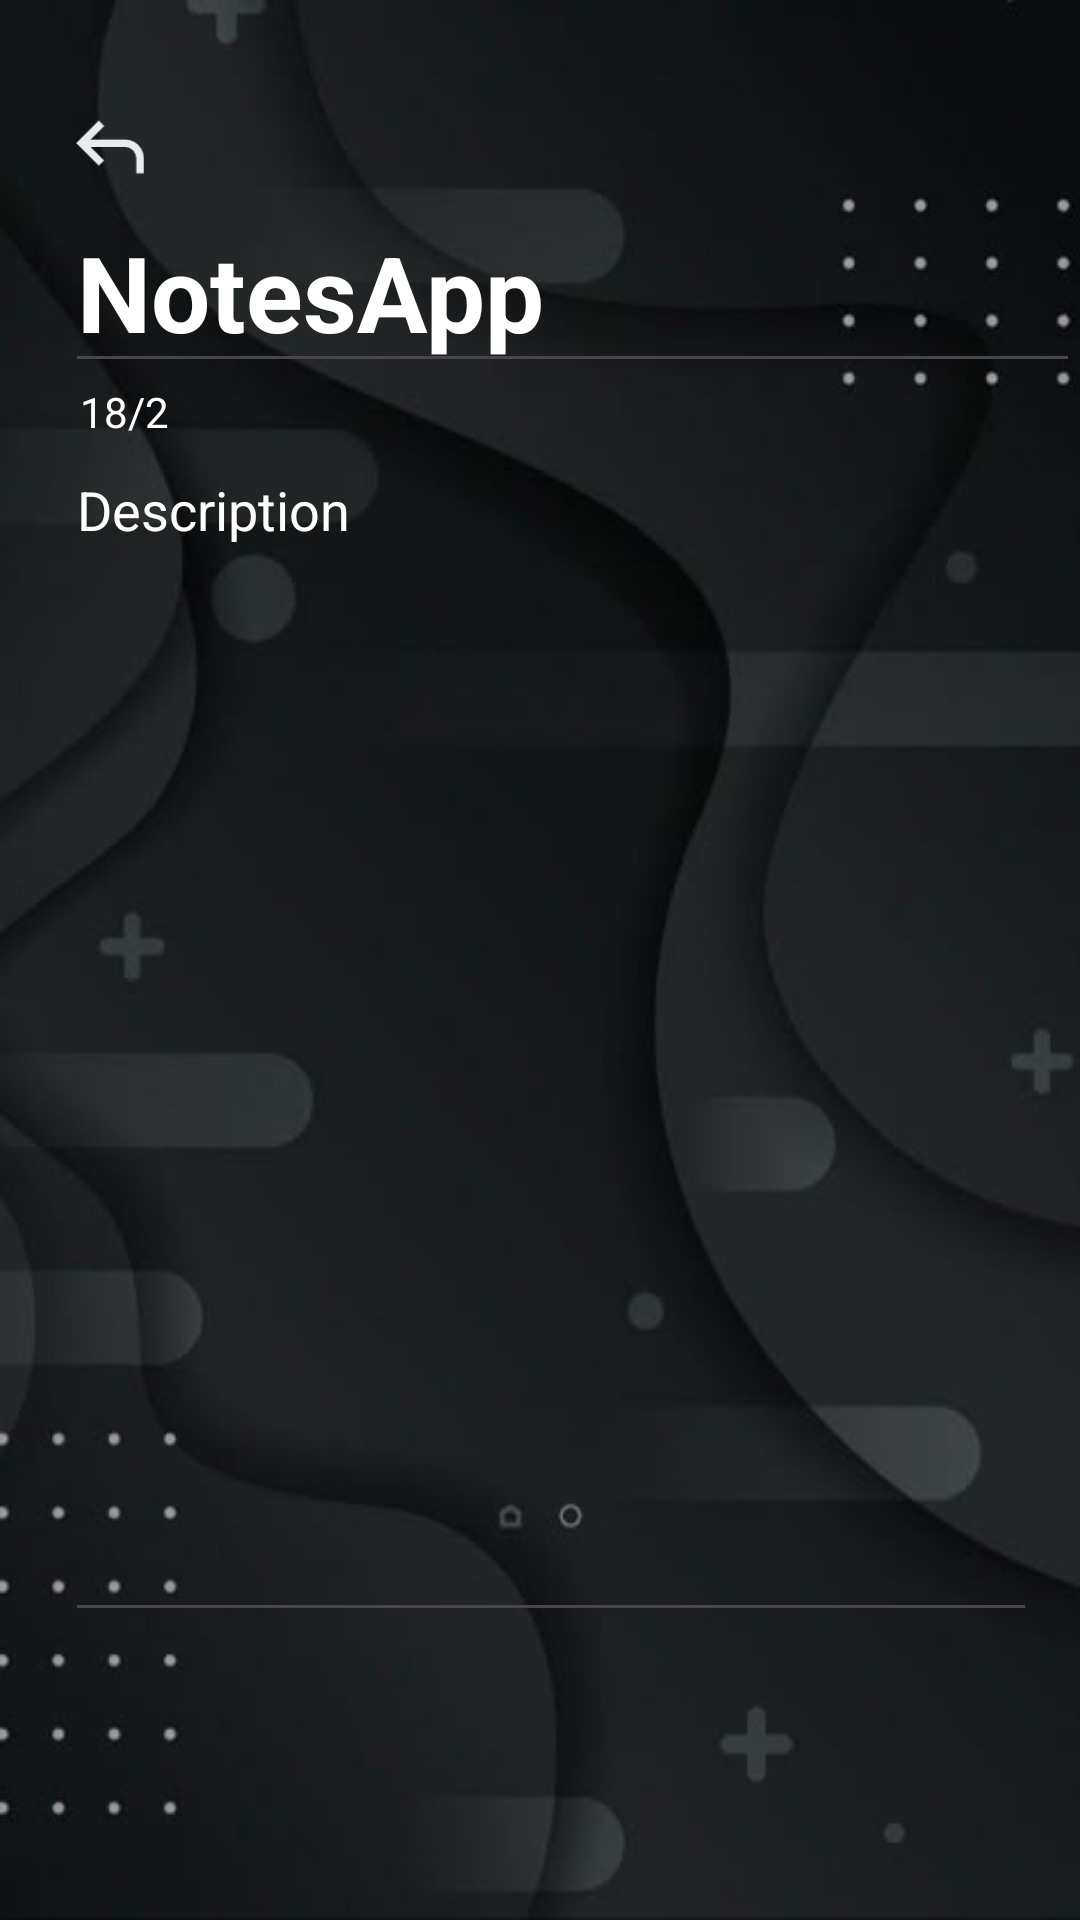

Screen size 1080w x 1920h. Icon name, then its center in pixels as point (x, y):
back to main: point (115, 147)
